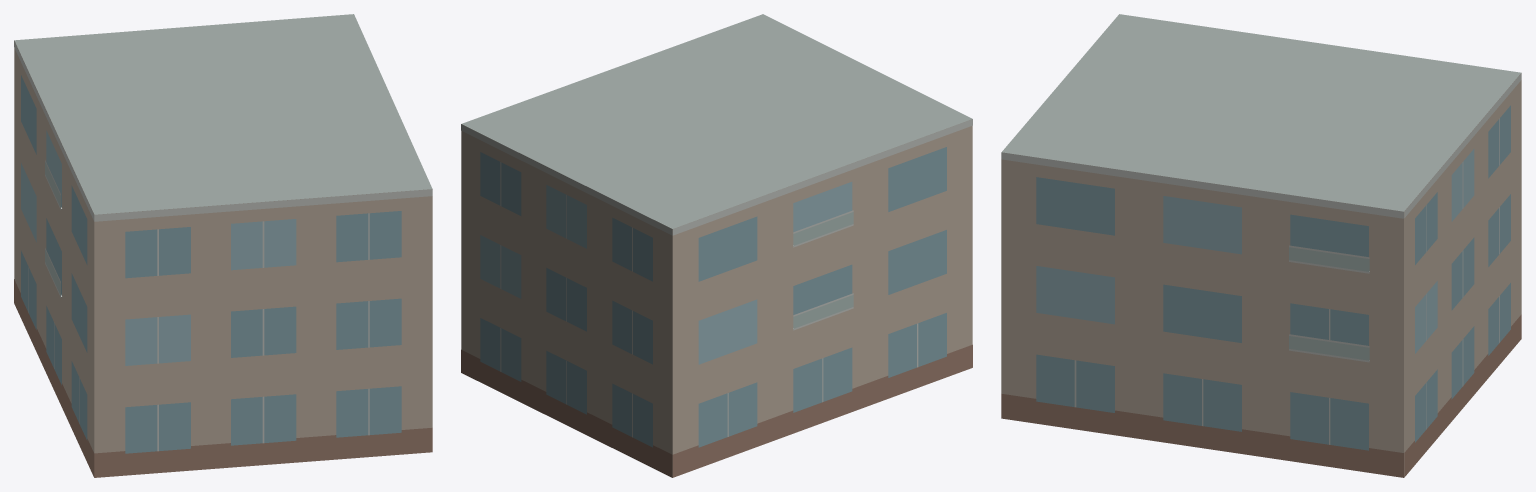
File: survey-upis-33028928.glb
3 views of the same model, side by side, from view 1: azimuth 30°, elevation 25°; view 2: azimuth 150°, elevation 25°; view 3: azimuth 270°, elevation 25° (orthographic). The views are drawn at different scales.
Visible parts, largest first — view 1: survey-upis-33028928.tmp; view 2: survey-upis-33028928.tmp; view 3: survey-upis-33028928.tmp.
Boxes of the visible parts, <box> form: survey-upis-33028928.tmp: <box>14,14,432,477</box>; survey-upis-33028928.tmp: <box>461,14,972,477</box>; survey-upis-33028928.tmp: <box>1001,14,1521,477</box>.
Size of the model in its own units: 14.5 by 9.1 by 16.12.
